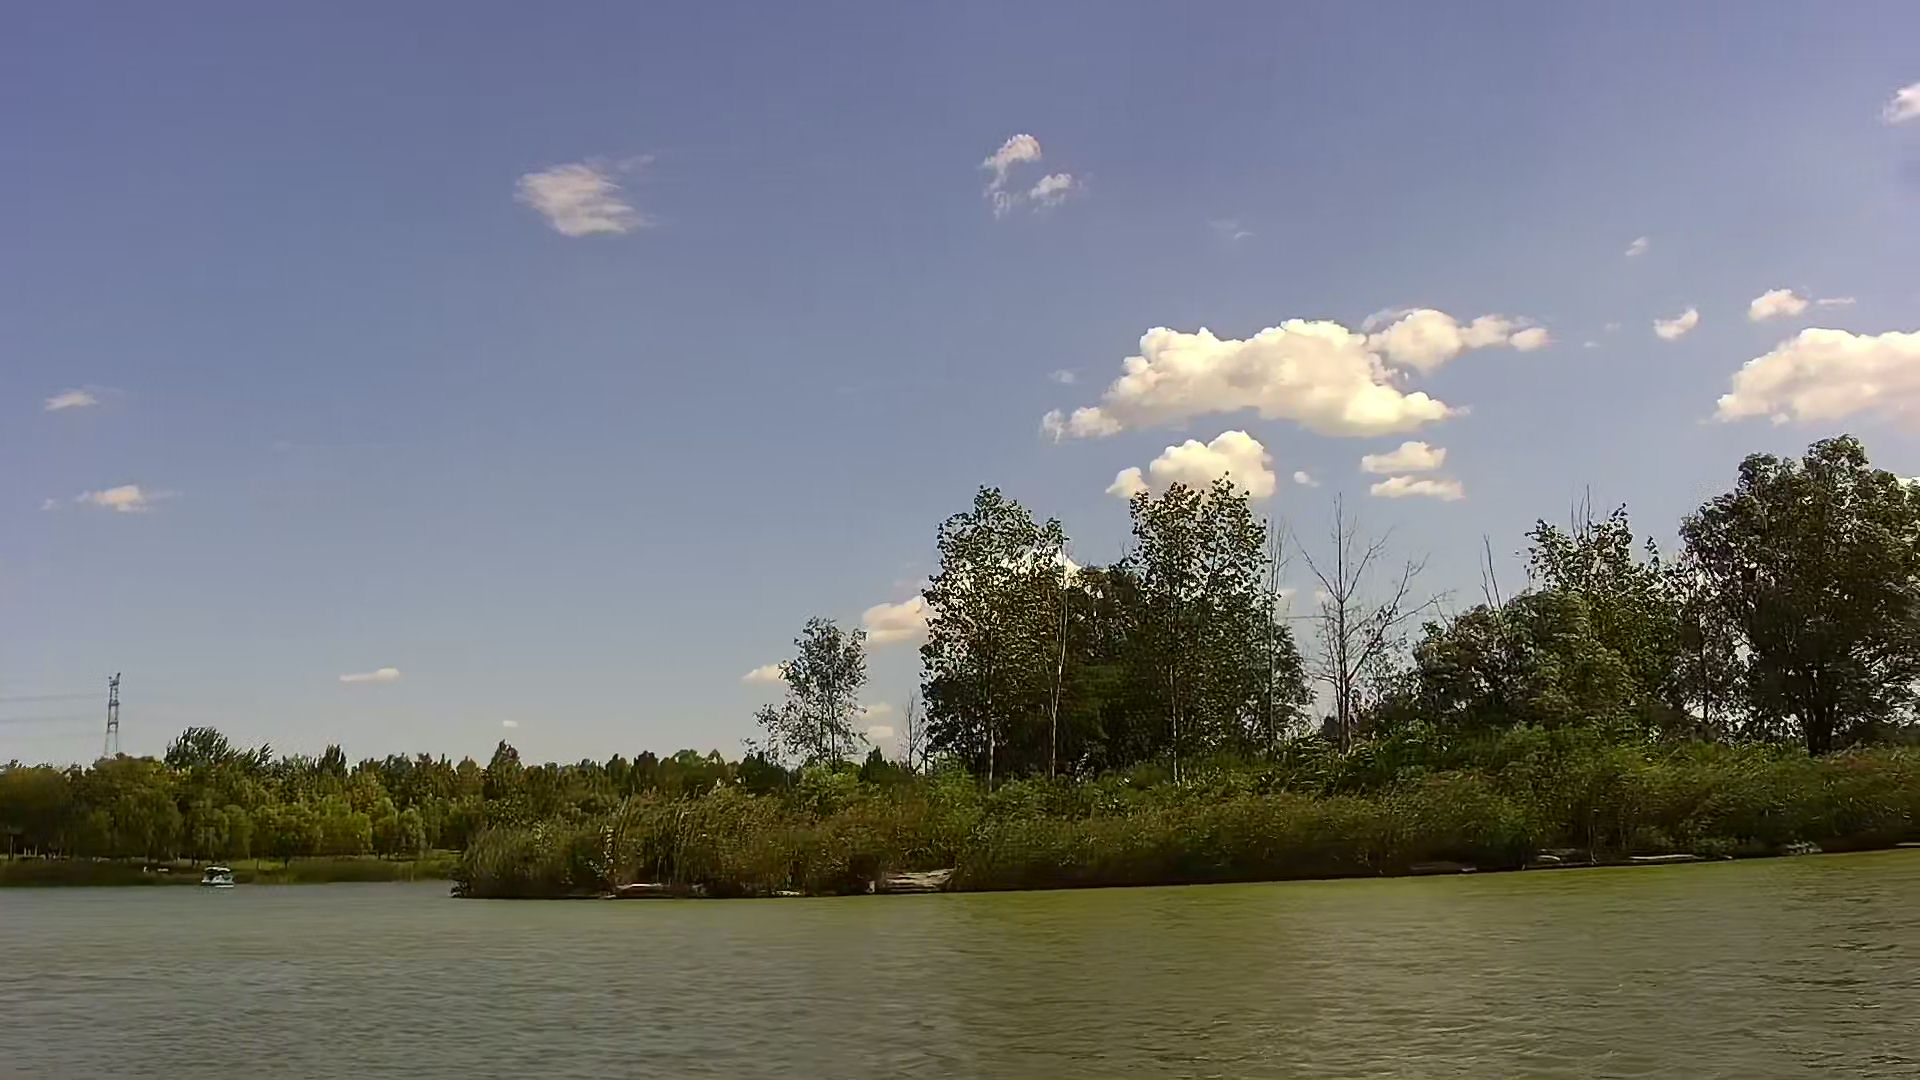boat: (202, 864, 232, 889)
rock: (872, 869, 959, 895), (616, 880, 676, 897)
